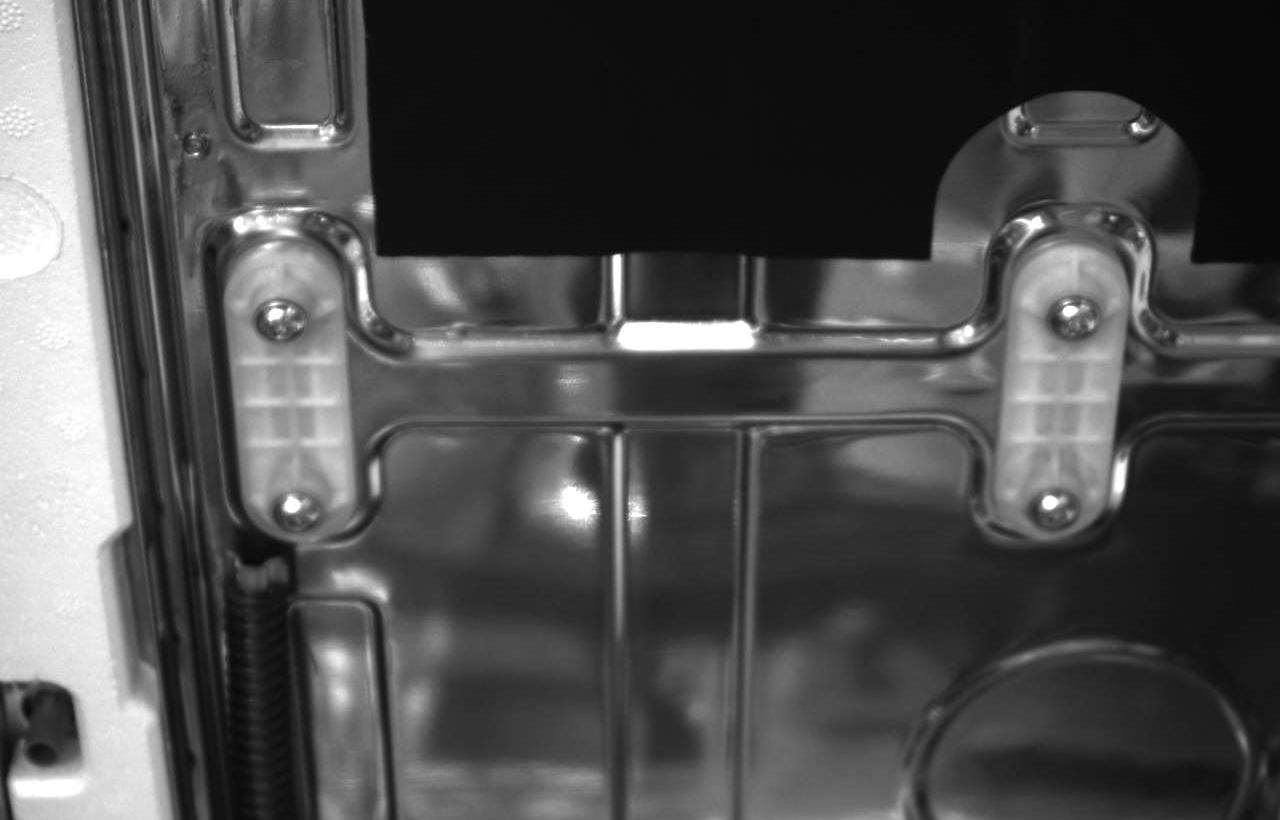vida-ok: (234, 289, 321, 367), (1031, 281, 1119, 354), (248, 477, 329, 542), (1013, 485, 1089, 543)
